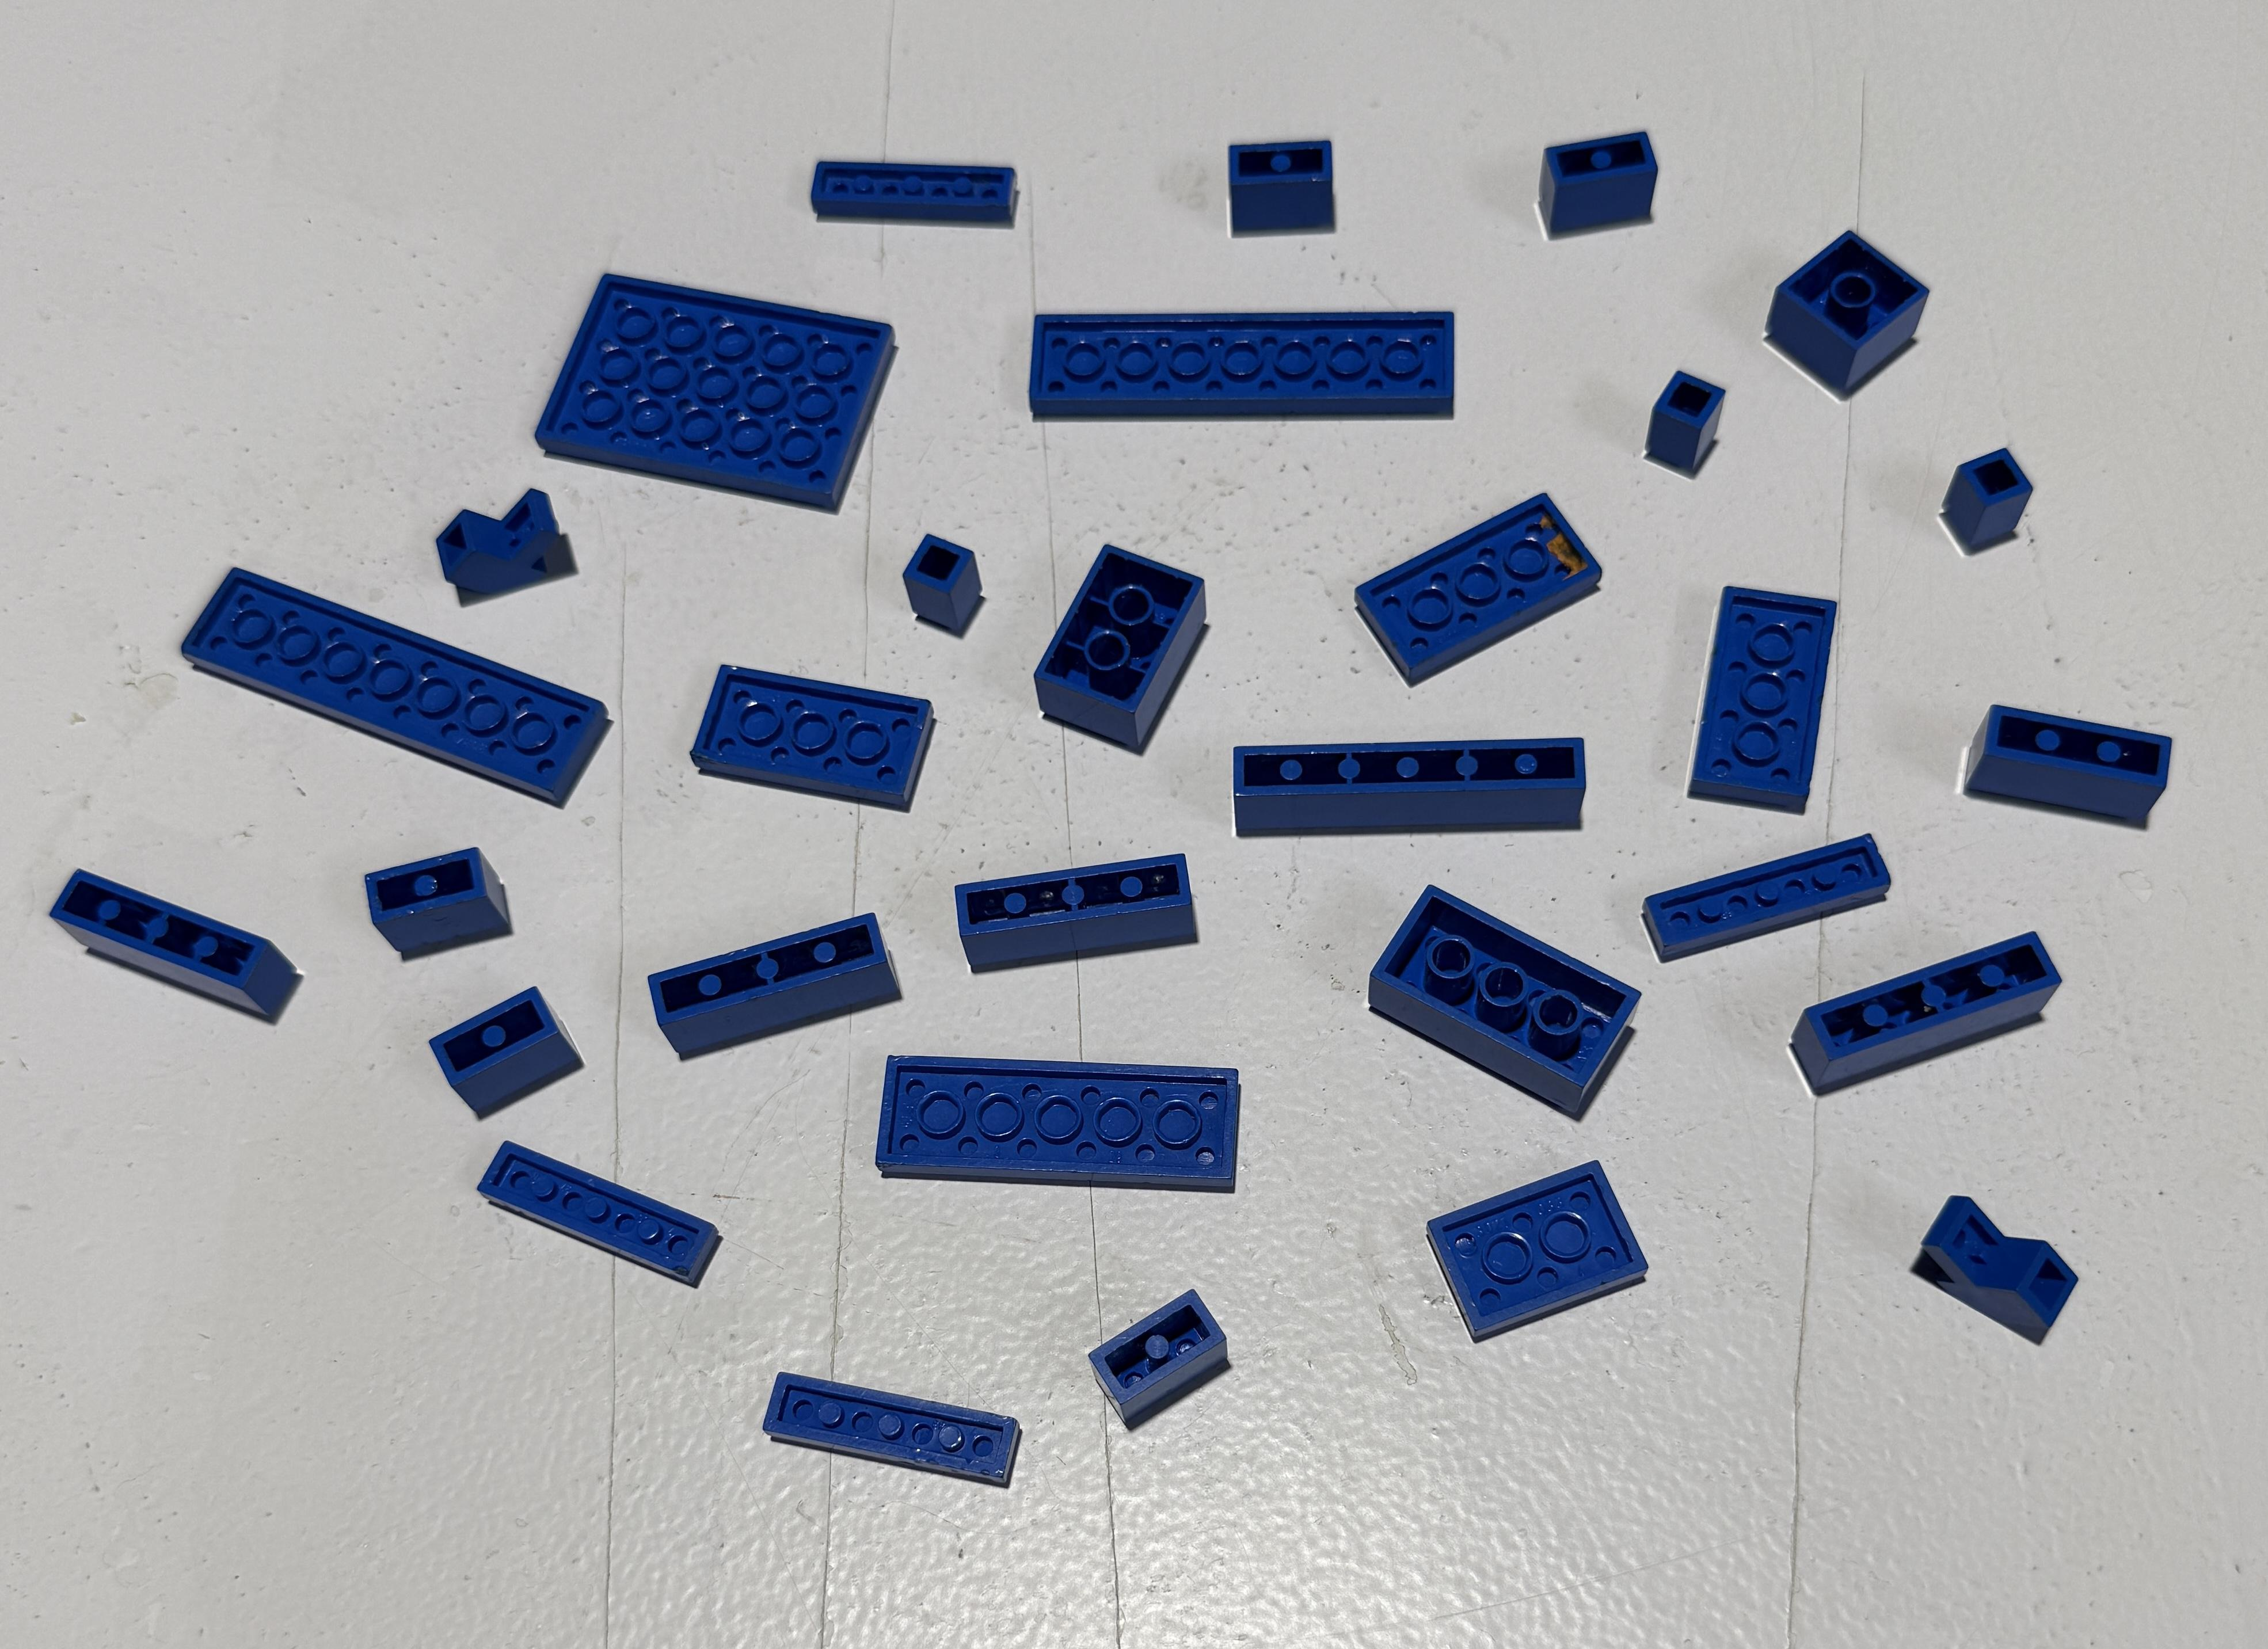brick_1x1: (1925, 421, 2064, 583), (880, 510, 1002, 653), (1615, 347, 1729, 495)
brick_1x2: (1065, 1267, 1248, 1445), (343, 813, 525, 986), (417, 963, 585, 1133), (1201, 104, 1372, 264), (1511, 104, 1683, 257)
brick_1x3: (1955, 674, 2191, 852)
brick_1x4: (1773, 908, 2080, 1139), (23, 850, 324, 1059), (924, 822, 1222, 1030), (639, 892, 916, 1084)
brick_2x2: (1750, 206, 1951, 408)
brick_2x3: (1021, 524, 1238, 787)
brick_2x4: (1351, 869, 1650, 1123)
